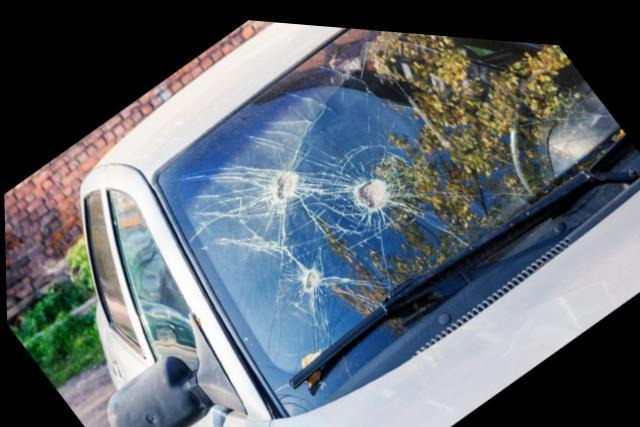glass shatter: (156, 22, 640, 410)
